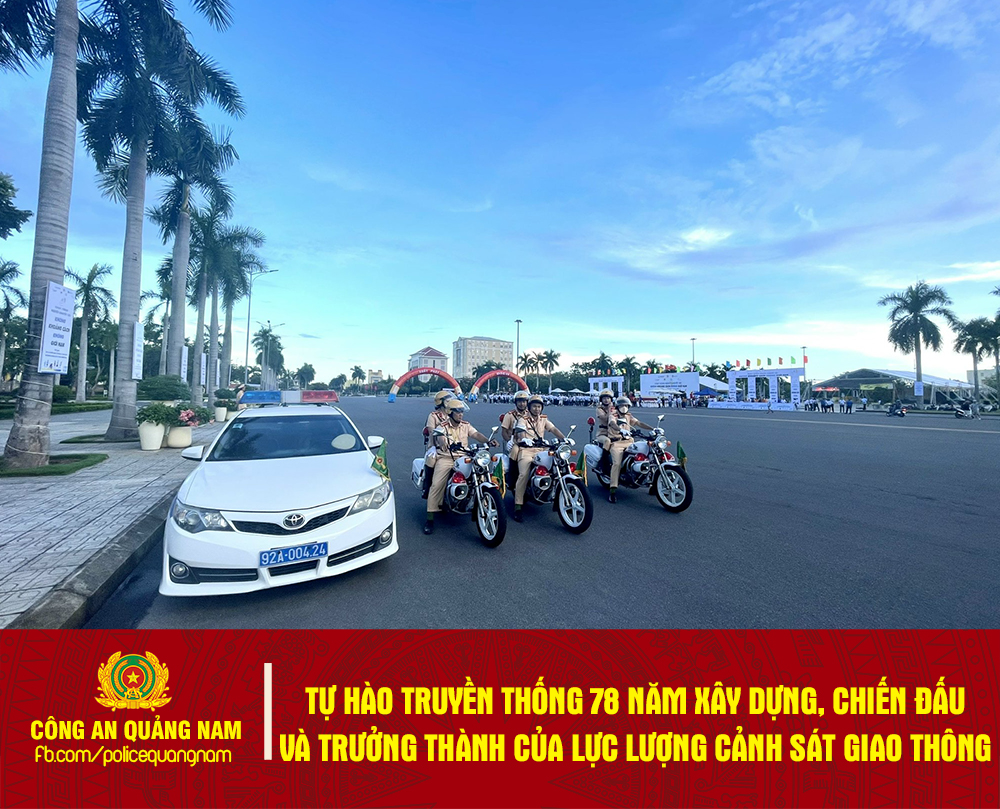oto: (156, 390, 402, 602)
xe_may: (406, 387, 507, 547), (495, 386, 591, 536), (584, 391, 697, 514)
